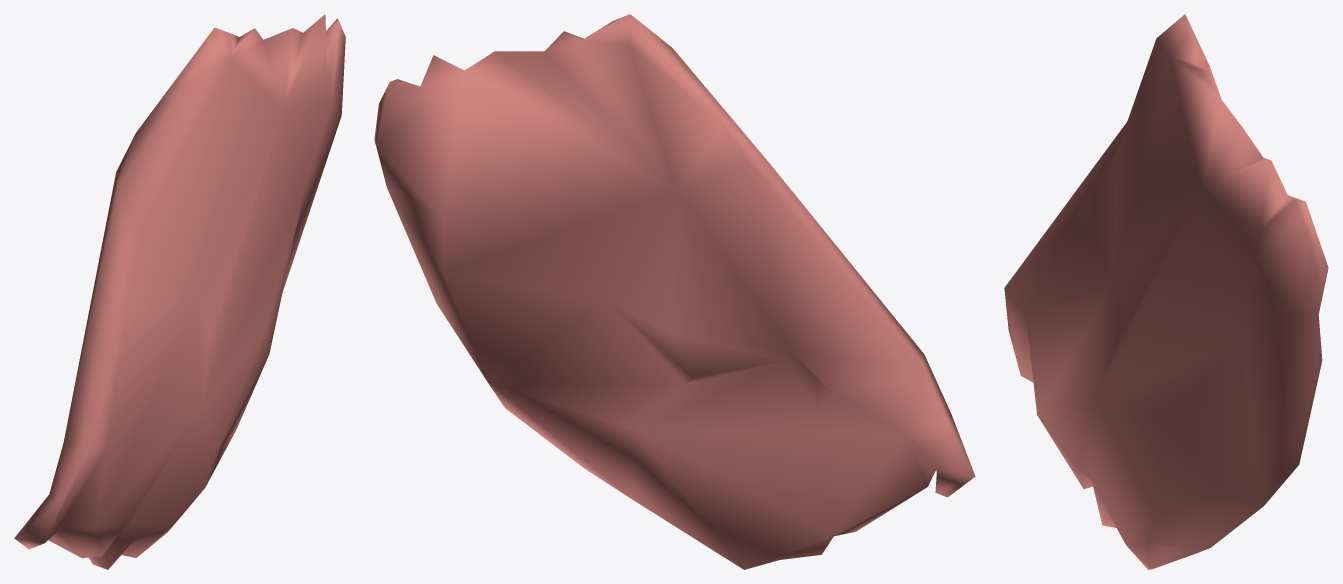
The picture shows the model from 3 angles, left to right: view 1: azimuth 30°, elevation 25°; view 2: azimuth 150°, elevation 25°; view 3: azimuth 270°, elevation 25°; orthographic projection. The views are drawn at different scales.
Visible parts, largest first — view 1: ZA_a6e479ce1c128599; view 2: ZA_a6e479ce1c128599; view 3: ZA_a6e479ce1c128599.
Part boxes in pixels (box(x1,y1,x2,y2)): ZA_a6e479ce1c128599: box(14, 14, 345, 569); ZA_a6e479ce1c128599: box(374, 14, 975, 569); ZA_a6e479ce1c128599: box(1004, 14, 1328, 569).
Bounding box in the file's own units: 0.0137 × 0.0148 × 0.00708.
